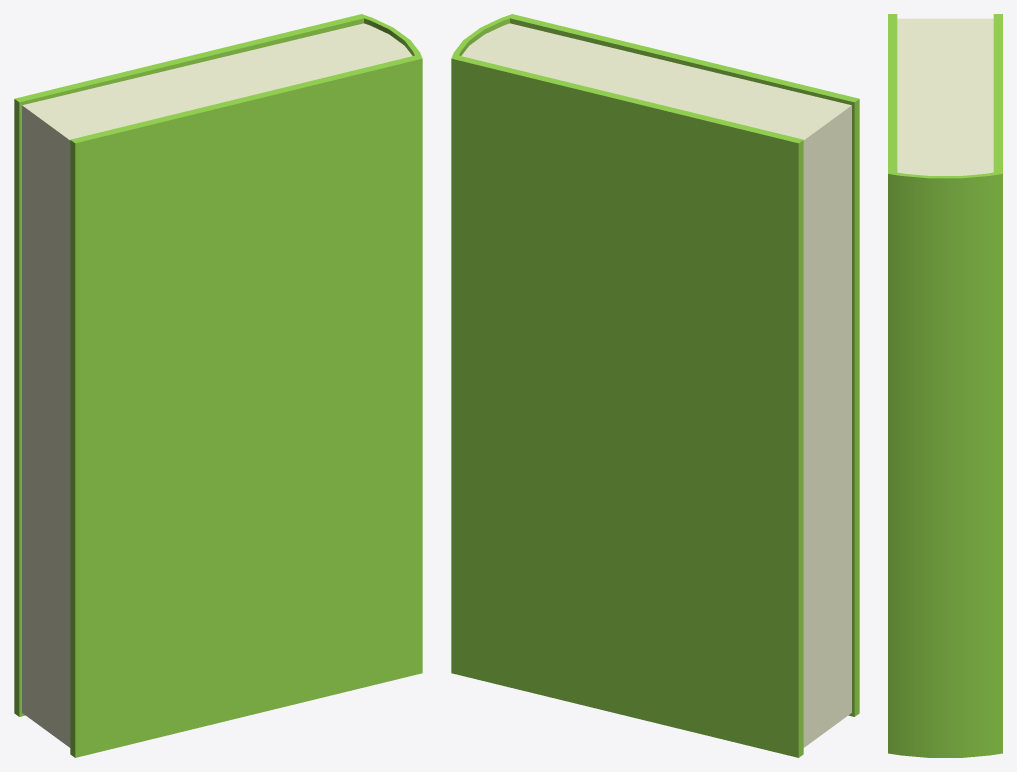
Rendered from newbook6.fbx.
3 views of the same model, side by side, from view 1: azimuth 30°, elevation 25°; view 2: azimuth 150°, elevation 25°; view 3: azimuth 270°, elevation 25° (orthographic). The views are drawn at different scales.
Visible parts, largest first — view 1: Book6; view 2: Book6; view 3: Book6.
Boxes of the visible parts, bbox=[...] form: Book6: bbox=[14, 14, 422, 757]; Book6: bbox=[451, 14, 859, 757]; Book6: bbox=[888, 14, 1002, 757].
Bounding box in the file's own units: 14.11 × 23.2 × 4.17.
